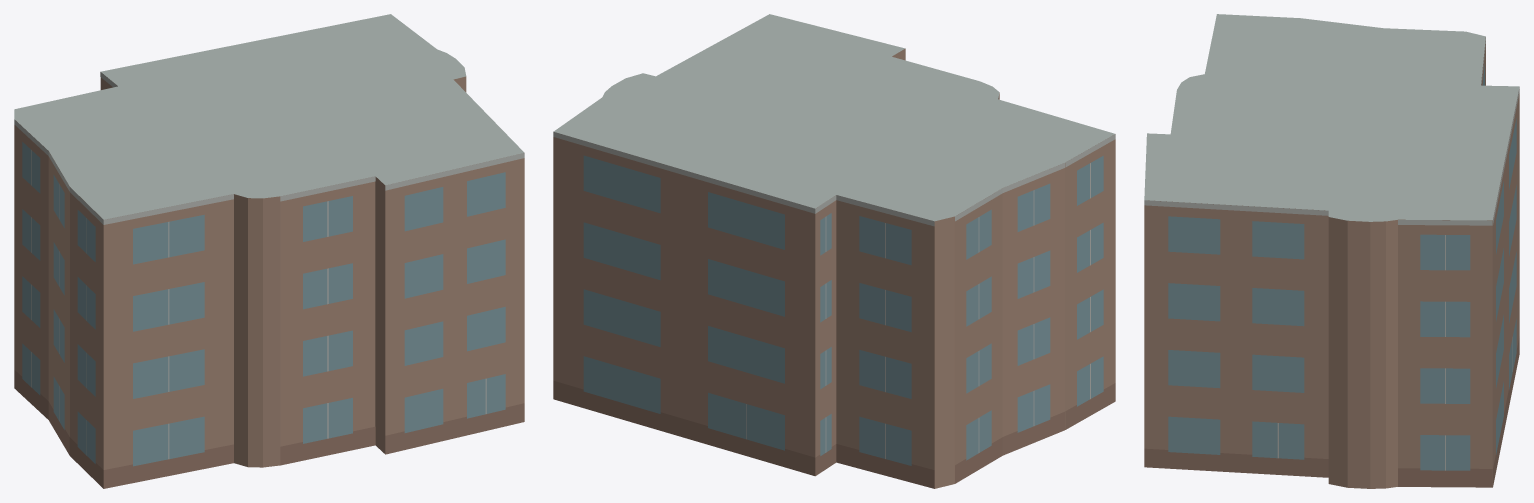
Rendered from survey-upis-32542151.glb.
3 views of the same model, side by side, from view 1: azimuth 30°, elevation 25°; view 2: azimuth 150°, elevation 25°; view 3: azimuth 270°, elevation 25° (orthographic).
Visible parts, largest first — view 1: survey-upis-32542151.tmp; view 2: survey-upis-32542151.tmp; view 3: survey-upis-32542151.tmp.
Part boxes in pixels (bbox=[...]): survey-upis-32542151.tmp: bbox=[14, 14, 524, 488]; survey-upis-32542151.tmp: bbox=[553, 14, 1115, 488]; survey-upis-32542151.tmp: bbox=[1144, 14, 1519, 488].
Bounding box in the file's own units: 20.87 × 12.5 × 15.93.
